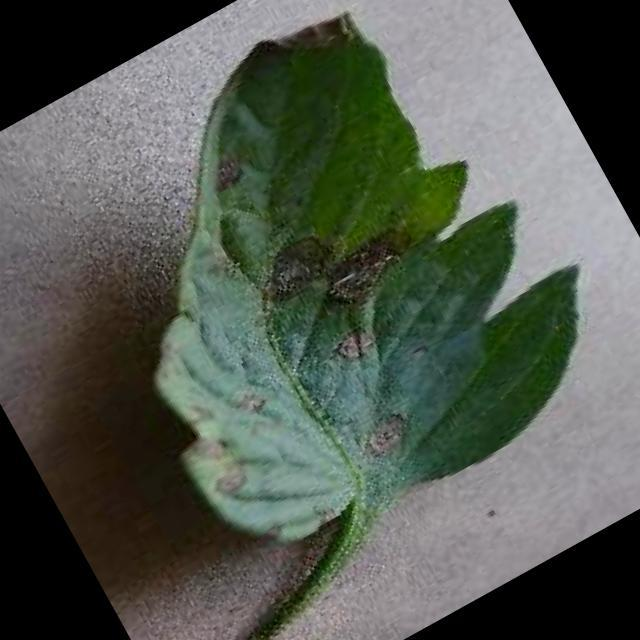Tomato Early blight leaf: (22, 0, 640, 591)
